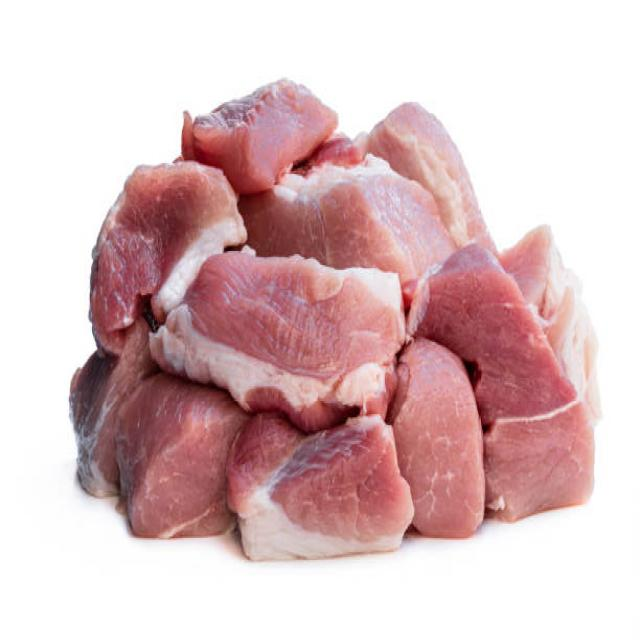Pork: (419, 246, 595, 522), (150, 254, 407, 432), (239, 154, 456, 299), (296, 102, 498, 253), (90, 162, 247, 354), (229, 416, 415, 561), (117, 373, 250, 539), (501, 226, 603, 423), (389, 340, 486, 539), (182, 78, 338, 194), (69, 317, 158, 497)
